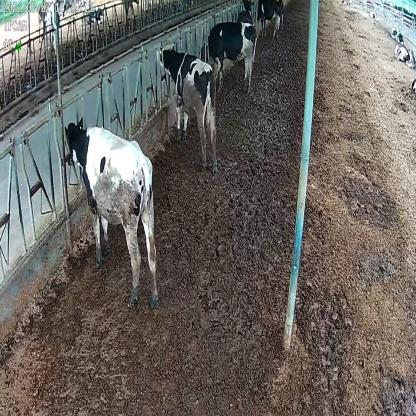cow: (61, 116, 161, 314), (154, 44, 218, 176), (197, 23, 257, 96)
